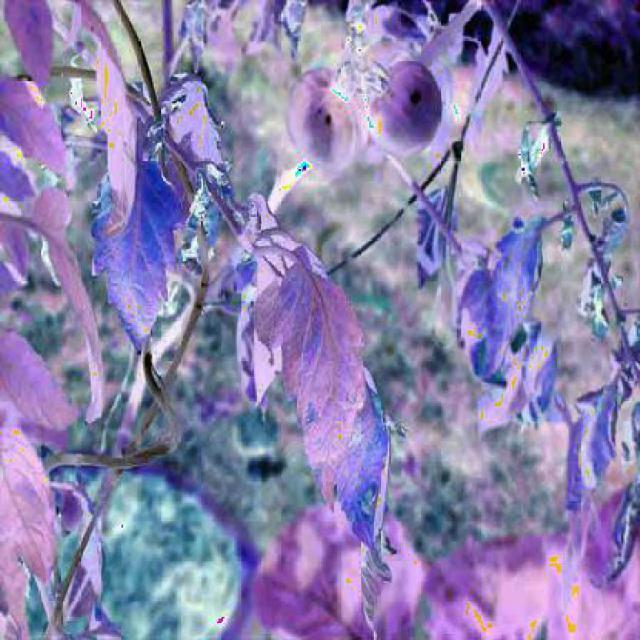Tomato mold leaf: (267, 262, 398, 576), (74, 144, 190, 372), (476, 216, 554, 370)
